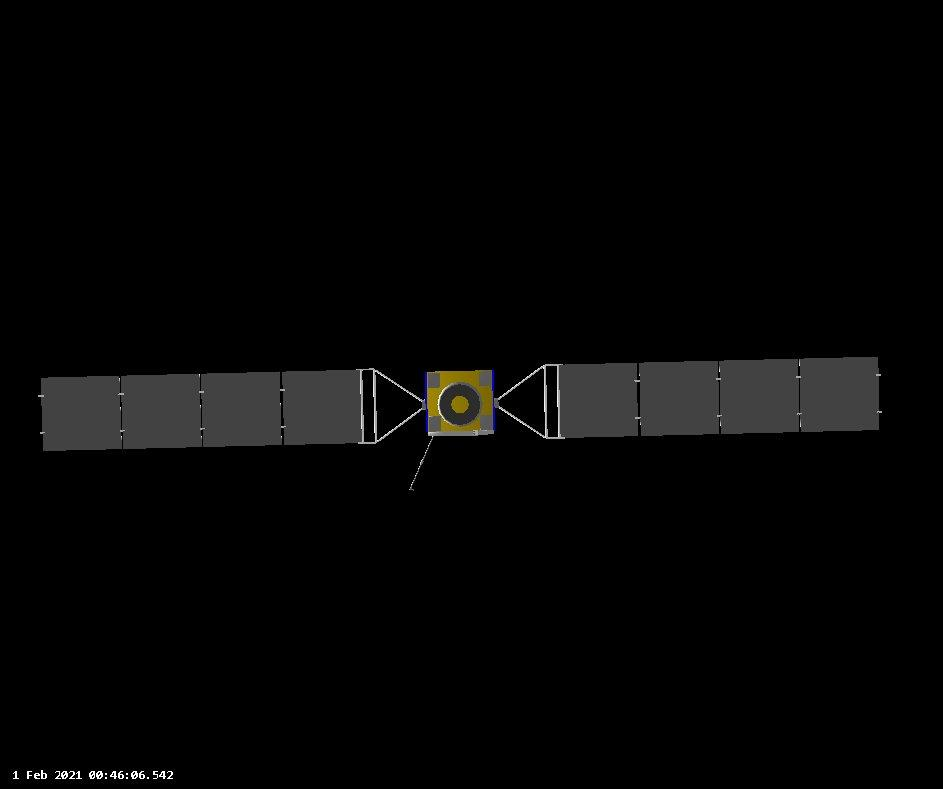antenna: (404, 425, 435, 499)
body: (423, 364, 497, 441)
solar: (37, 364, 386, 452), (549, 352, 886, 440)
thruster: (436, 379, 484, 427)
